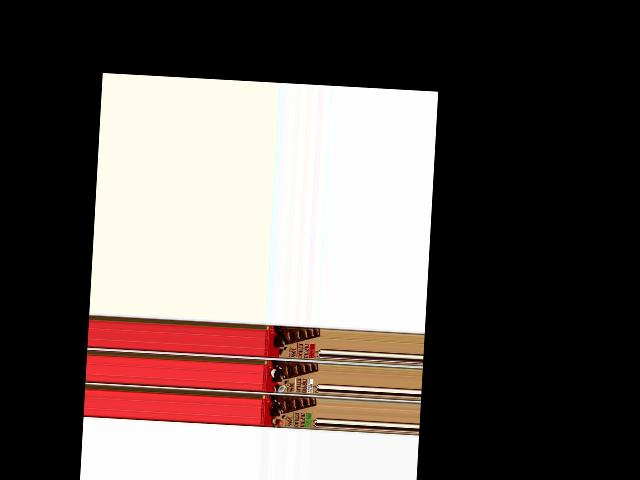chocolate: (259, 394, 317, 431)
